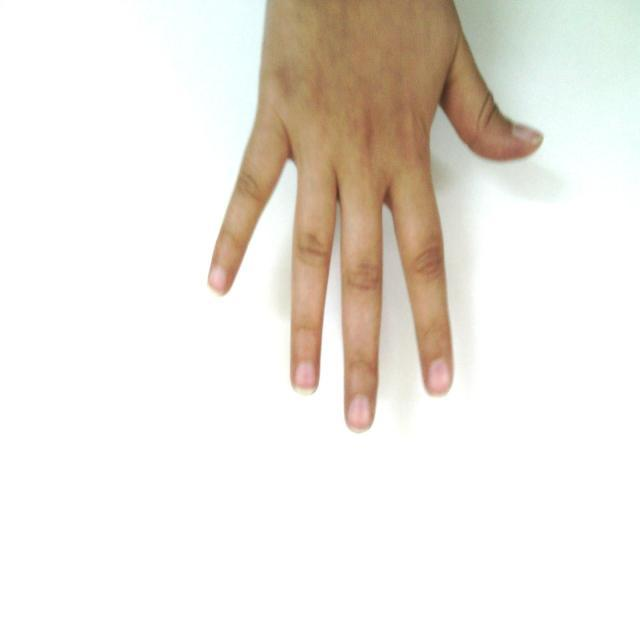Fingernail: (349, 396, 371, 431), (428, 359, 450, 394), (294, 361, 315, 395), (512, 124, 542, 141), (210, 268, 225, 293)
